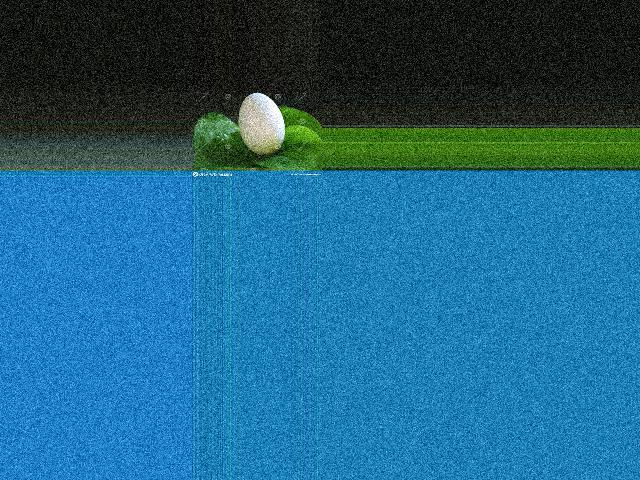egg: (238, 93, 285, 155)
